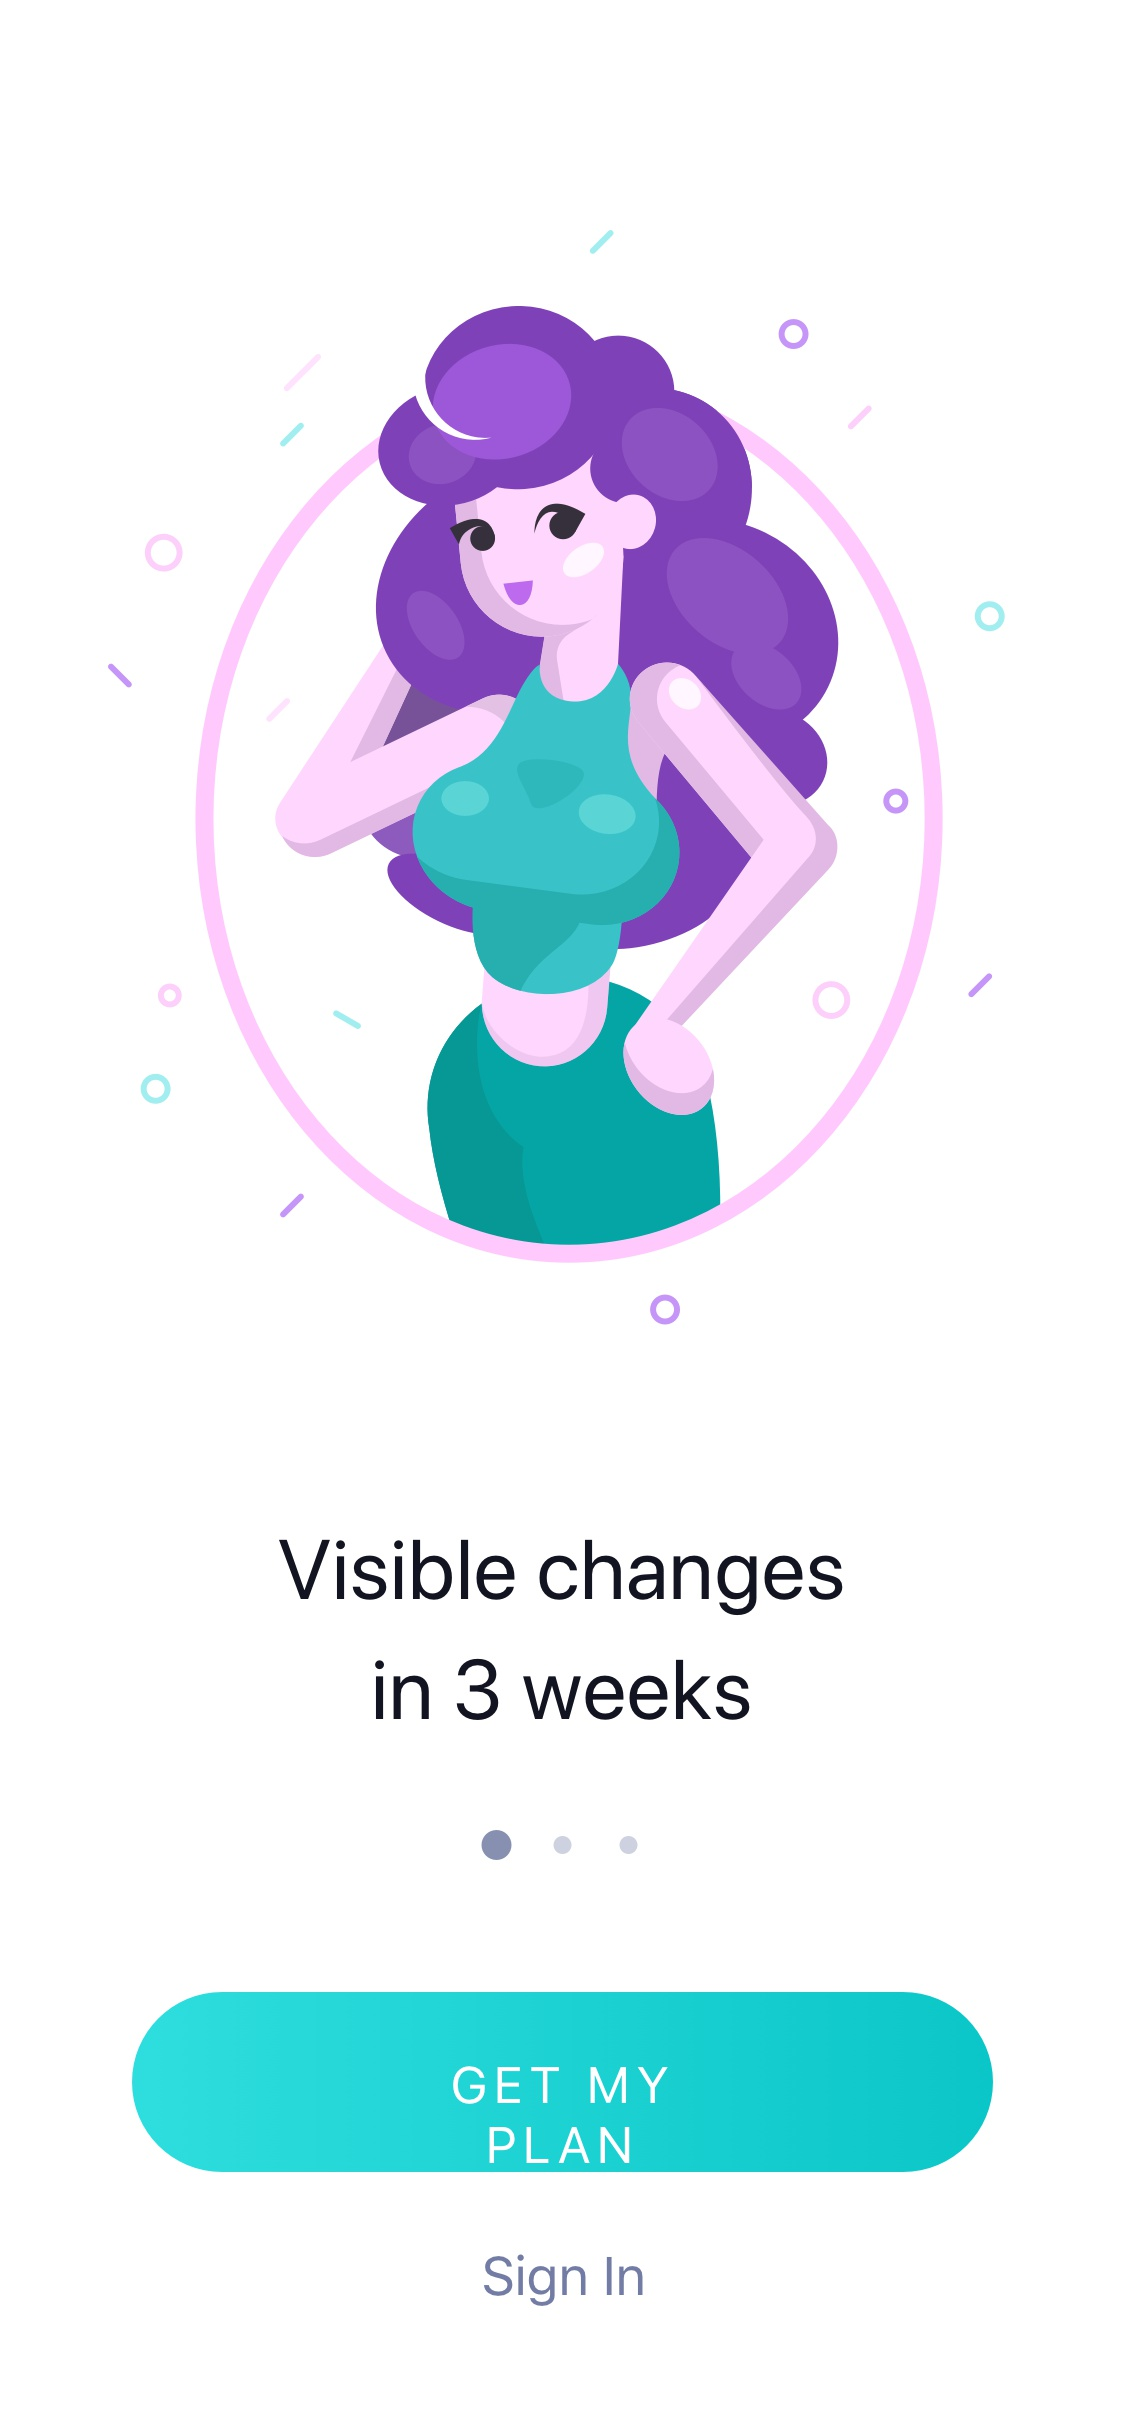Image: (109, 228, 1007, 1324)
PageIndicator: (482, 1829, 642, 1863)
Text: (280, 1540, 844, 1721), (483, 2253, 645, 2307)
TextButton: (132, 1992, 994, 2173)
